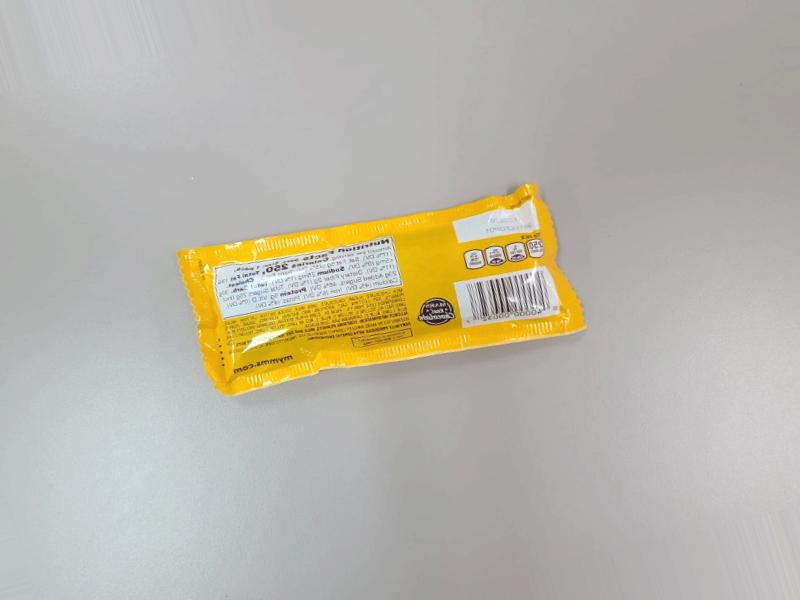m&m: (163, 183, 605, 394)
